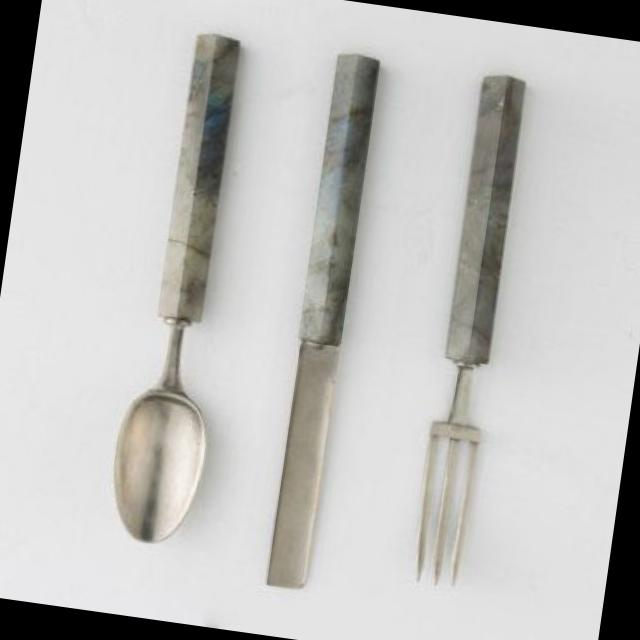fork: (409, 53, 534, 593)
spoon: (104, 4, 268, 554)
